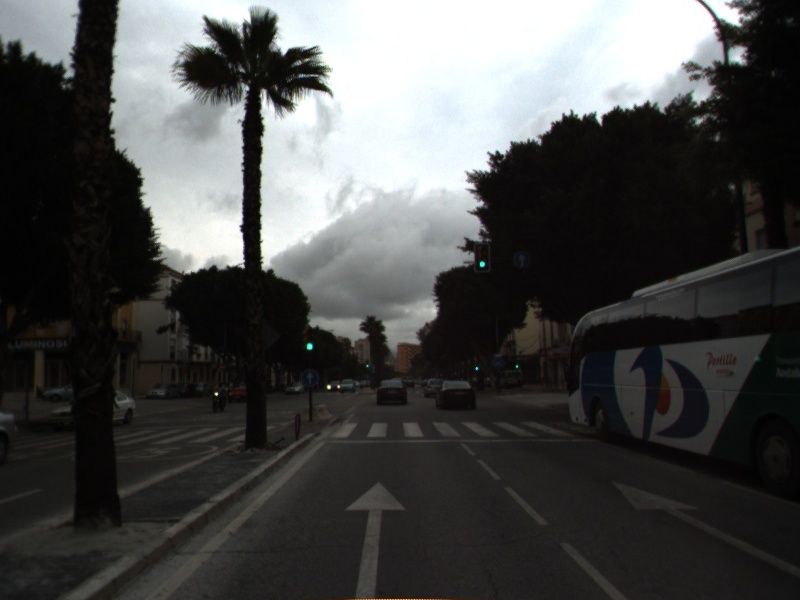STRAIGHT: (608, 477, 800, 576), (341, 477, 410, 600)
